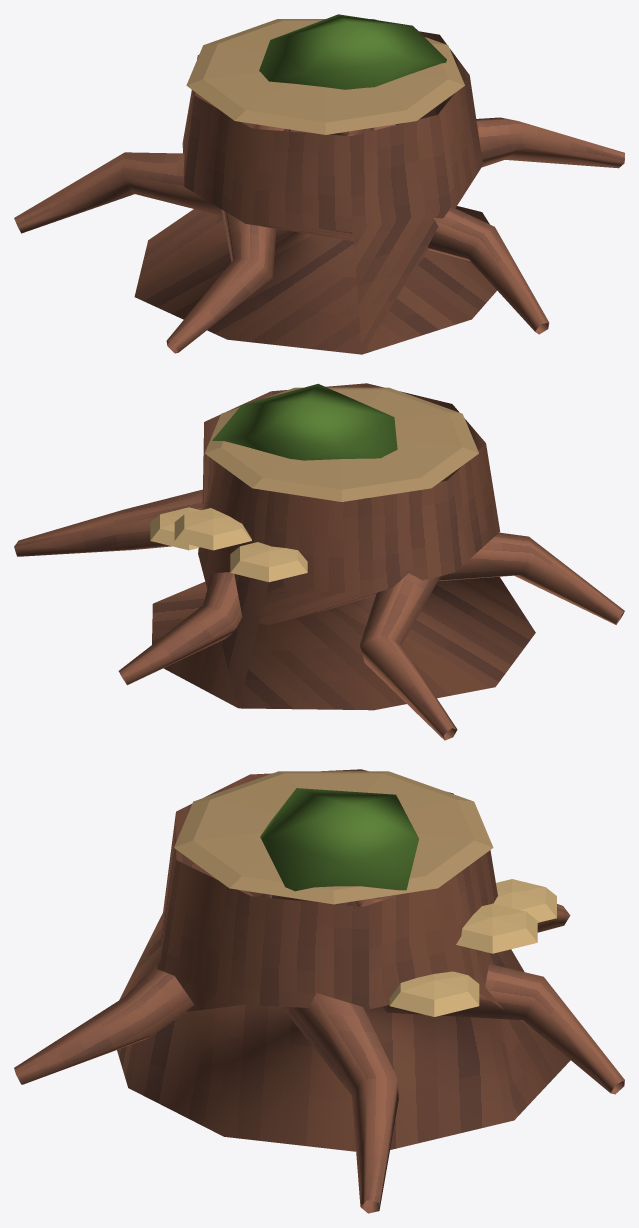
The model's file is stump_mossy.glb.
3 views of the same model, one above another, from view 1: azimuth 30°, elevation 25°; view 2: azimuth 150°, elevation 25°; view 3: azimuth 270°, elevation 25° (orthographic). The views are drawn at different scales.
Visible parts, largest first — view 1: stump_mossy_Bark_Brown, stump_mossy_Wood_EndGrain, stump_mossy_Moss_Cap; view 2: stump_mossy_Bark_Brown, stump_mossy_Wood_EndGrain, stump_mossy_Moss_Cap, stump_mossy_Fungus_Shelf; view 3: stump_mossy_Bark_Brown, stump_mossy_Wood_EndGrain, stump_mossy_Moss_Cap, stump_mossy_Fungus_Shelf.
Part boxes in pixels (x1,y1,x2,y2): stump_mossy_Bark_Brown: (14, 31, 624, 354); stump_mossy_Wood_EndGrain: (186, 19, 464, 134); stump_mossy_Moss_Cap: (259, 14, 446, 89); stump_mossy_Bark_Brown: (14, 383, 624, 740); stump_mossy_Wood_EndGrain: (204, 387, 478, 501); stump_mossy_Moss_Cap: (212, 383, 397, 460); stump_mossy_Fungus_Shelf: (150, 507, 307, 582); stump_mossy_Bark_Brown: (14, 769, 624, 1213); stump_mossy_Wood_EndGrain: (174, 771, 493, 904); stump_mossy_Moss_Cap: (260, 788, 418, 891); stump_mossy_Fungus_Shelf: (389, 879, 556, 1016).
Bounding box in the file's own units: 2.18 × 0.9078 × 1.88.
Materials: 4 (1 with a texture image).
